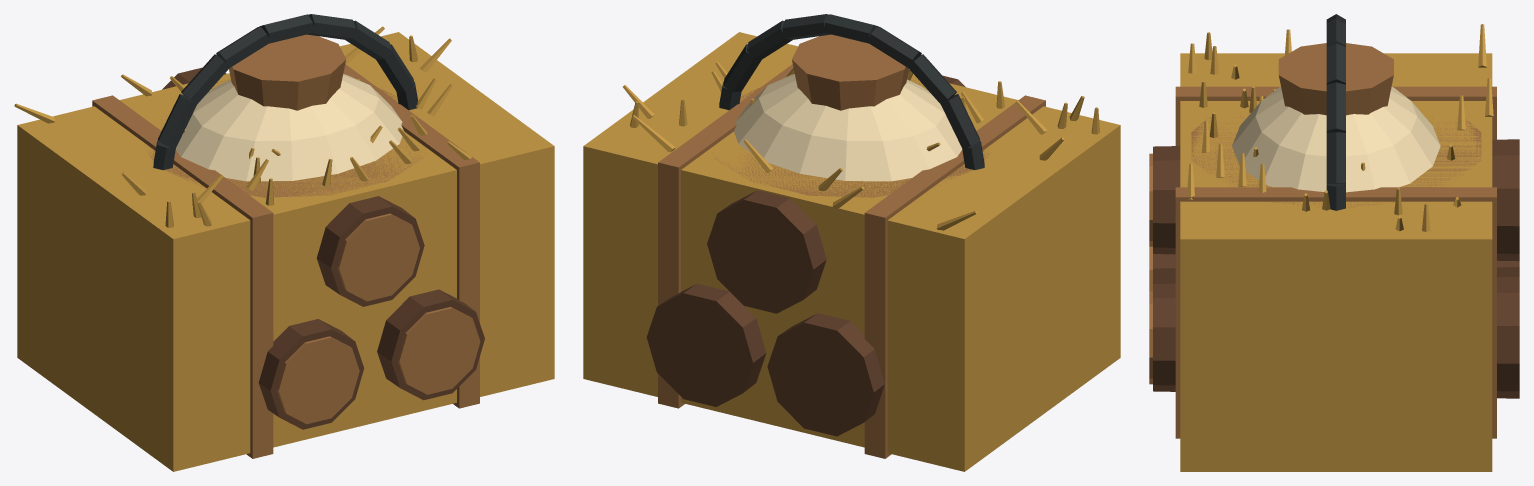
The model's file is charge.glb.
3 renders of one model, left to right at view 1: azimuth 30°, elevation 25°; view 2: azimuth 150°, elevation 25°; view 3: azimuth 270°, elevation 25°, orthographic.
Parts seen in each view (by area): view 1: charge_foin, charge_bois, charge_grain, charge_puits; view 2: charge_foin, charge_bois, charge_grain, charge_puits; view 3: charge_foin, charge_grain, charge_bois, charge_puits.
Boxes of the visible parts, x1,y1,x2,y2 form: charge_foin: (14, 26, 554, 471); charge_bois: (162, 67, 484, 429); charge_grain: (175, 34, 403, 181); charge_puits: (147, 14, 423, 197); charge_foin: (583, 32, 1120, 471); charge_bois: (646, 75, 965, 436); charge_grain: (734, 34, 962, 181); charge_puits: (715, 14, 990, 197); charge_foin: (1175, 24, 1496, 471); charge_grain: (1232, 43, 1440, 192); charge_bois: (1149, 139, 1519, 398); charge_puits: (1191, 14, 1481, 210).
Bounding box in the file's own units: 0.4981 × 0.4836 × 0.404.
